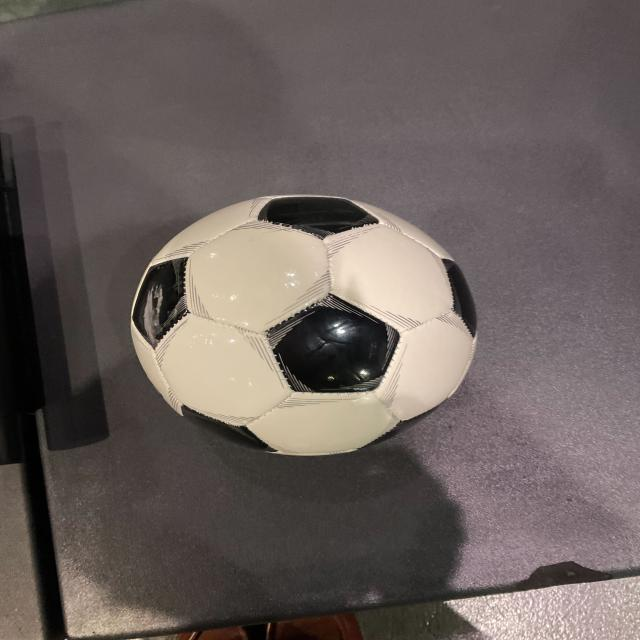ball: (138, 196, 482, 459)
